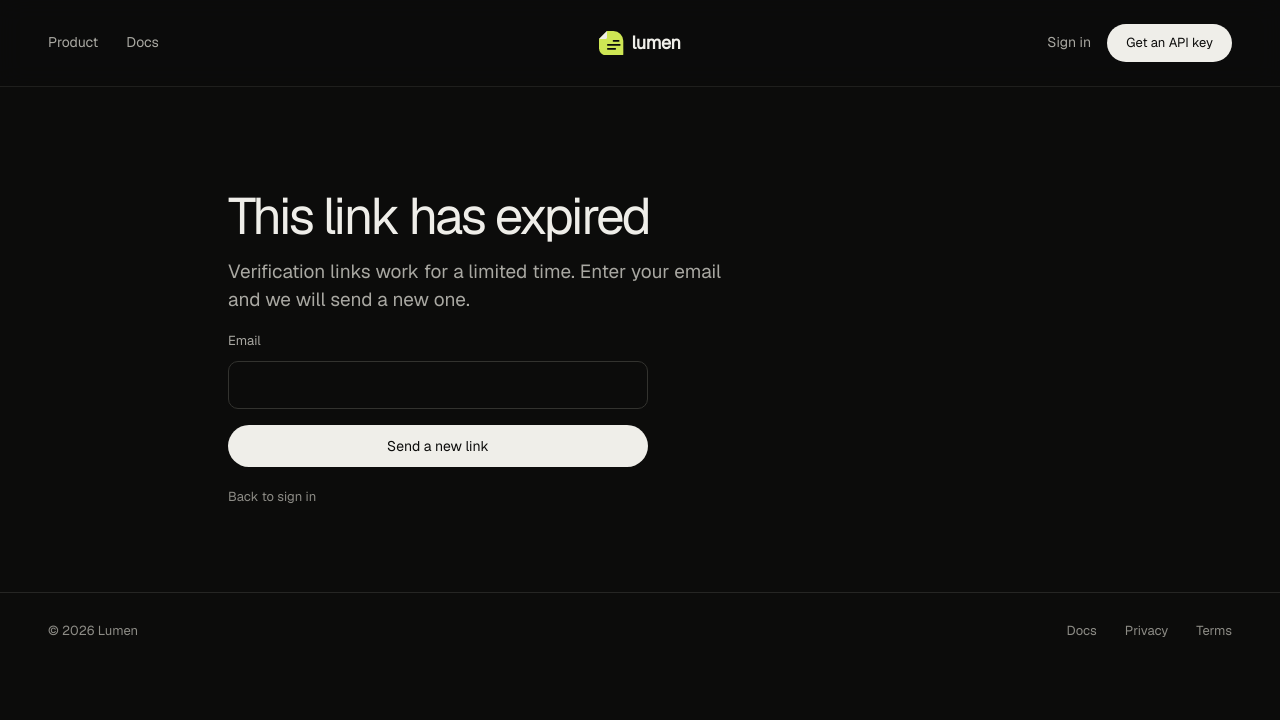
Test: VerifyEmail › the resend 429 is explained
The width and height of the screenshot is (1280, 720).
Type "maya@campus.test" into the field labelled "Email".
click(438, 385); type("maya@campus.test")  # box x1=228 y1=361 x2=648 y2=409
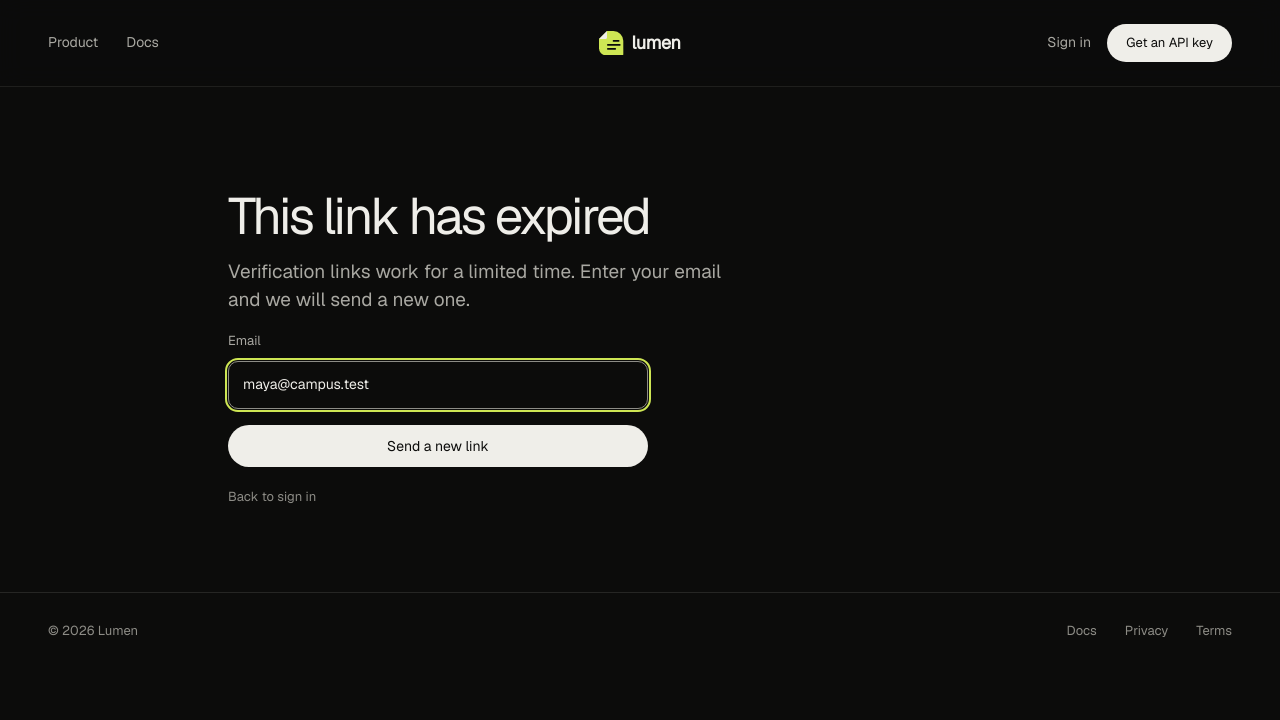
Click the button "Send a new link".
click(438, 446)  # box x1=228 y1=425 x2=648 y2=467
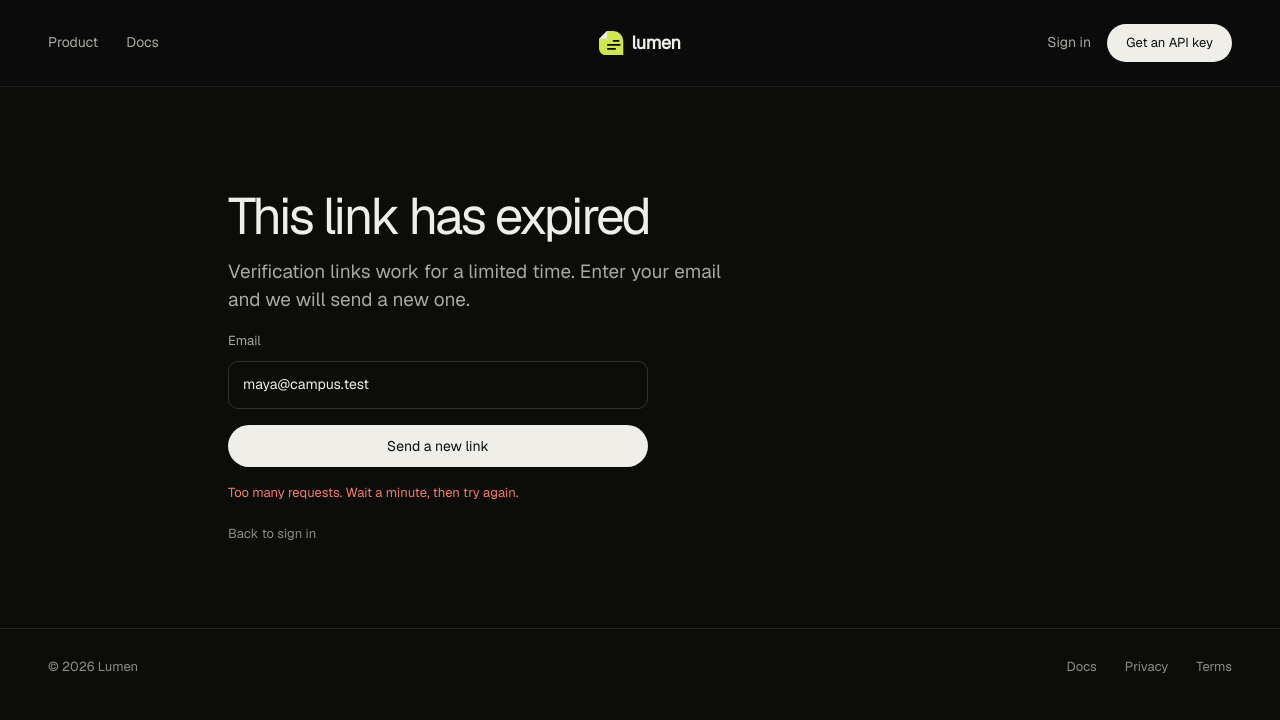
Now the message reads "Too many requests. Wait a minute, then try again.", box x1=228 y1=484 x2=518 y2=501
